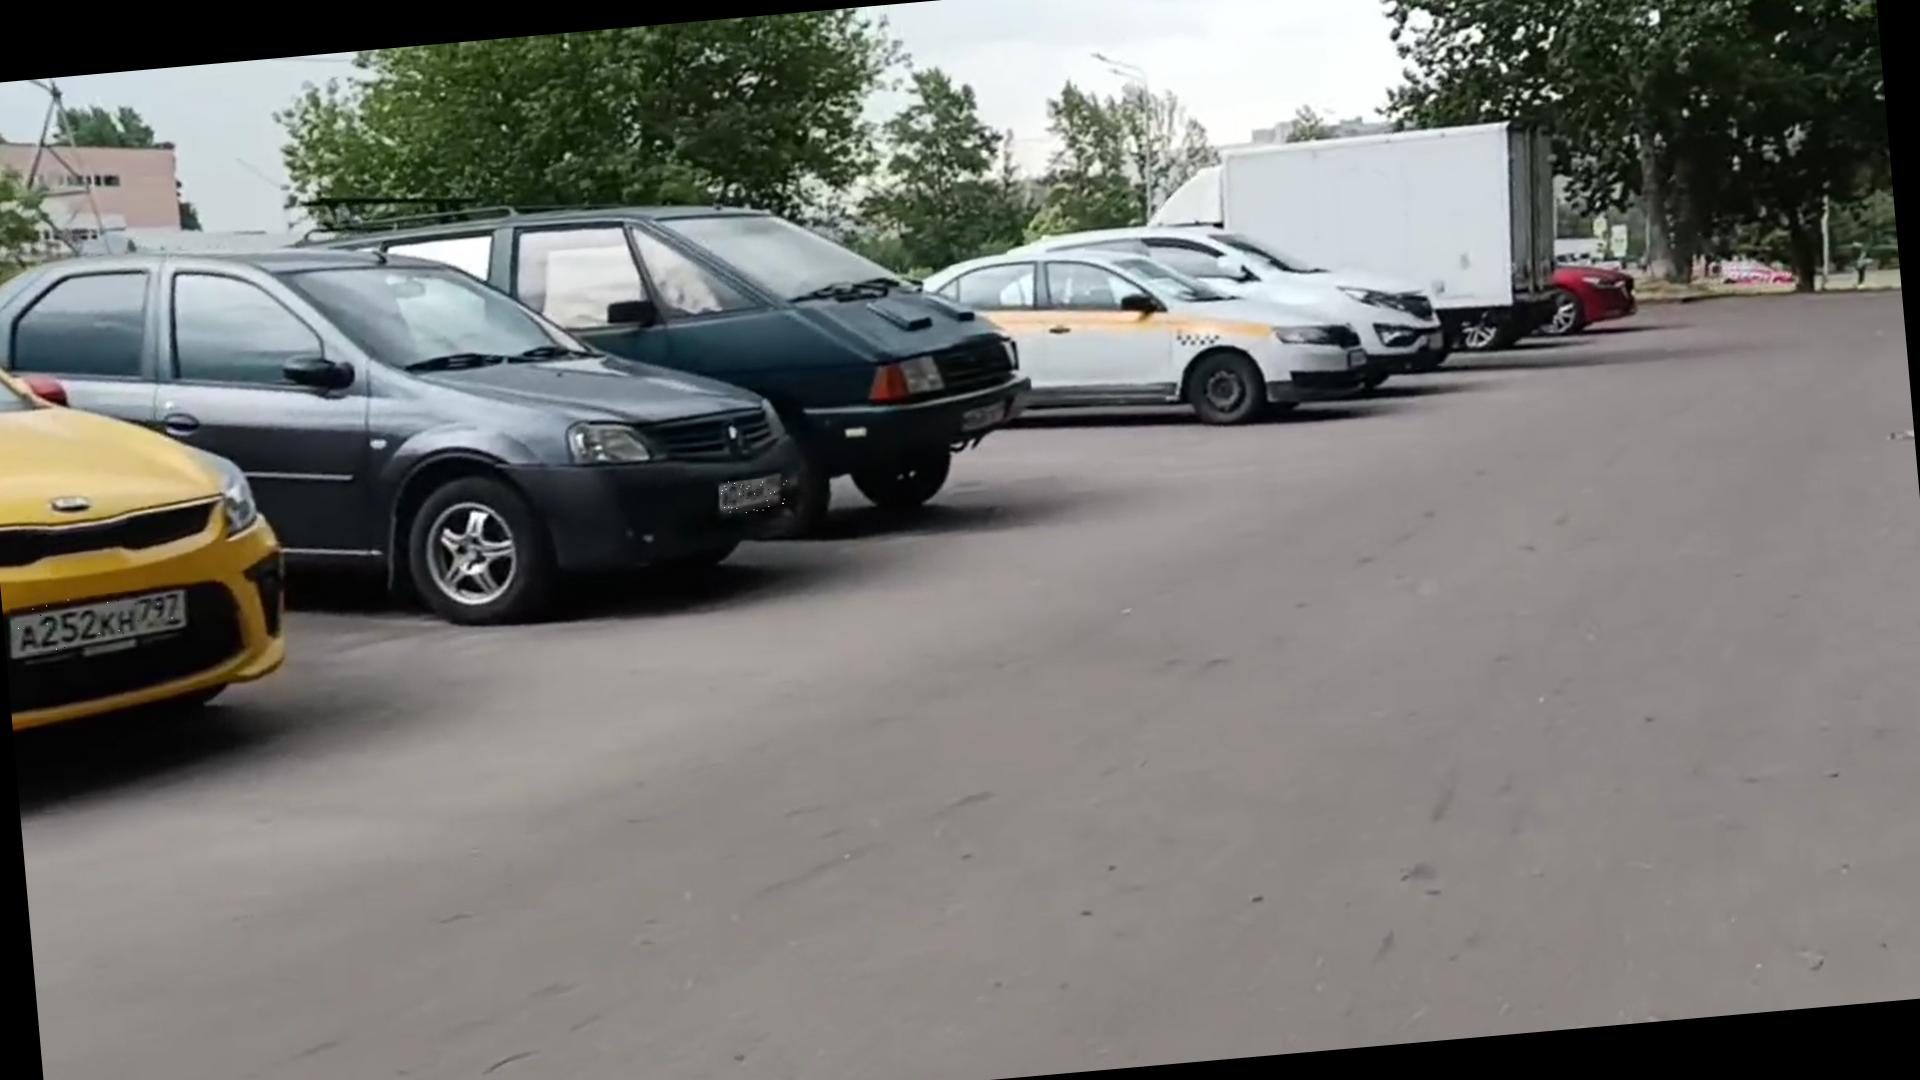plate: (11, 588, 192, 657), (720, 478, 792, 518)
